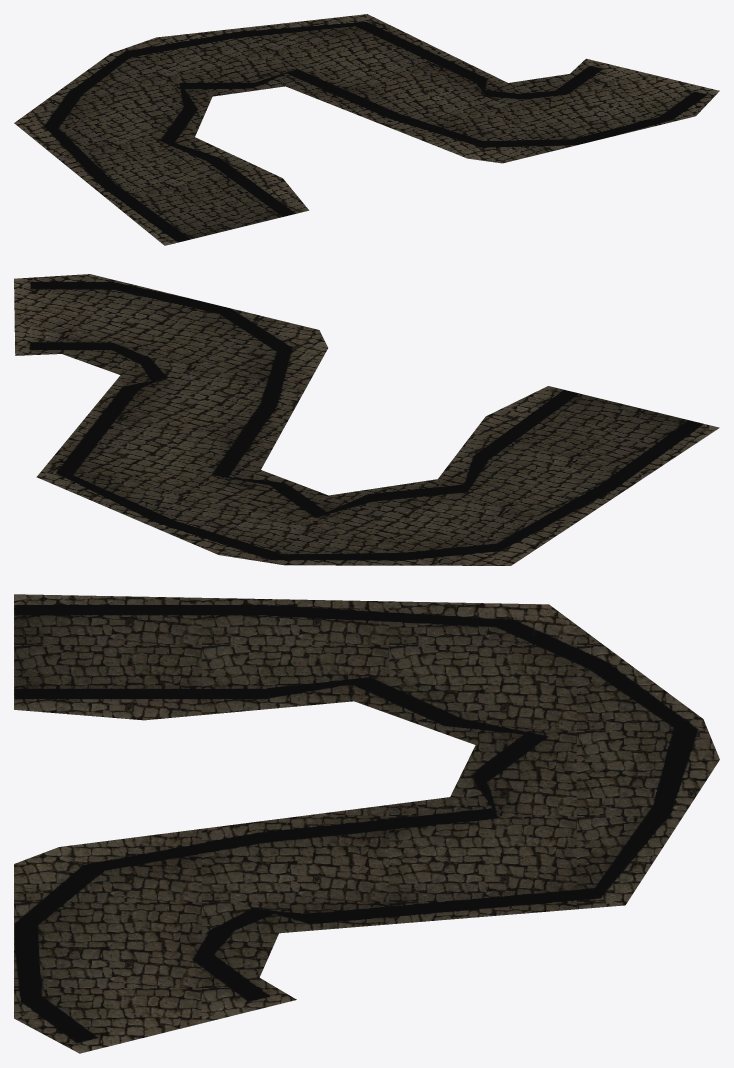
3 renders of one model, top to bottom at view 1: azimuth 30°, elevation 25°; view 2: azimuth 150°, elevation 25°; view 3: azimuth 270°, elevation 25°, orthographic. The views are drawn at different scales.
Parts seen in each view (by area): view 1: Plane; view 2: Plane; view 3: Plane.
Part boxes in pixels (x1,y1,x2,y2): Plane: (14, 14, 719, 245); Plane: (14, 274, 719, 565); Plane: (14, 594, 719, 1053).
Size of the model in its own units: 35.41 by 7.49e-06 by 23.
1 material, 1 textured.
